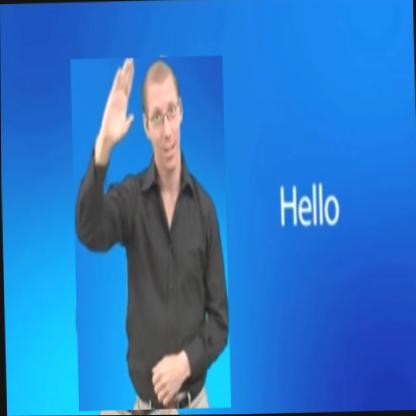Hello: (70, 55, 230, 411)
